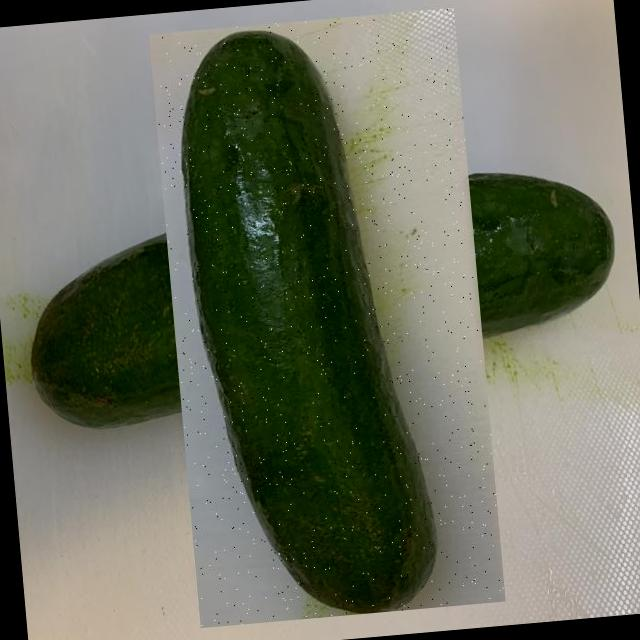Cucumber: (167, 17, 444, 628)
